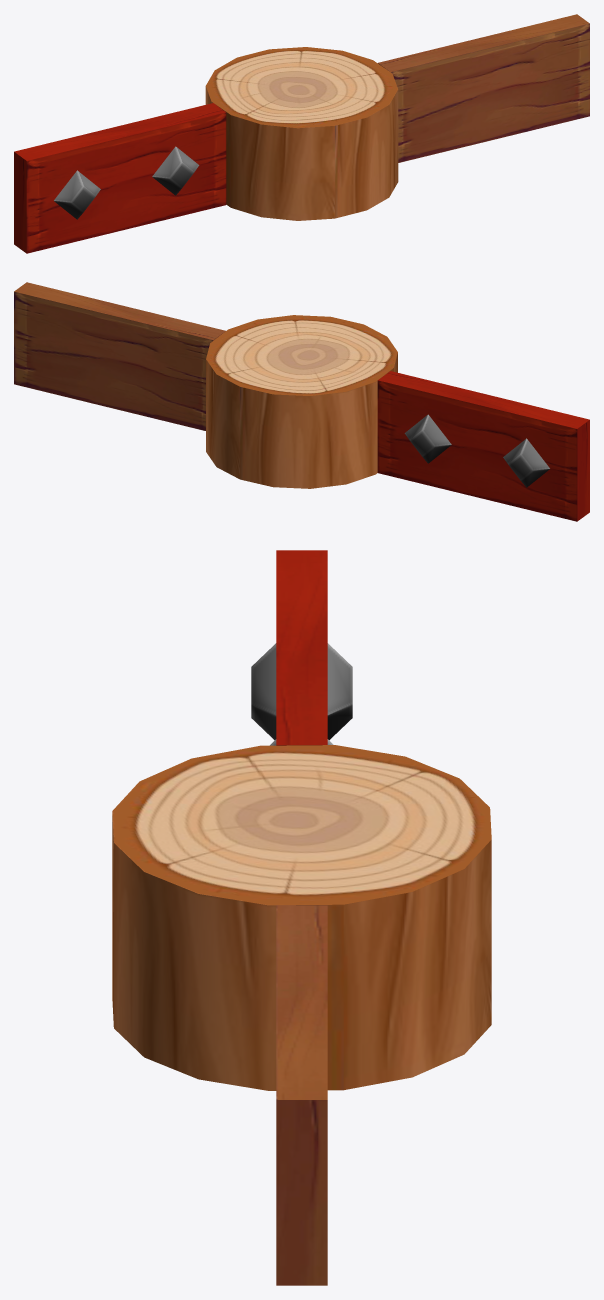
Rendered from two_blade_double_01.fbx.
3 views of the same model, one above another, from view 1: azimuth 30°, elevation 25°; view 2: azimuth 150°, elevation 25°; view 3: azimuth 270°, elevation 25° (orthographic). The views are drawn at different scales.
Parts seen in each view (by area): view 1: two_blade_double_01; view 2: two_blade_double_01; view 3: two_blade_double_01.
Boxes of the visible parts, box(x1,y1,x2,y2) form: two_blade_double_01: box(14, 14, 589, 253); two_blade_double_01: box(14, 282, 589, 521); two_blade_double_01: box(112, 550, 491, 1285).
Size of the model in its own units: 254 by 40 by 74.15.
